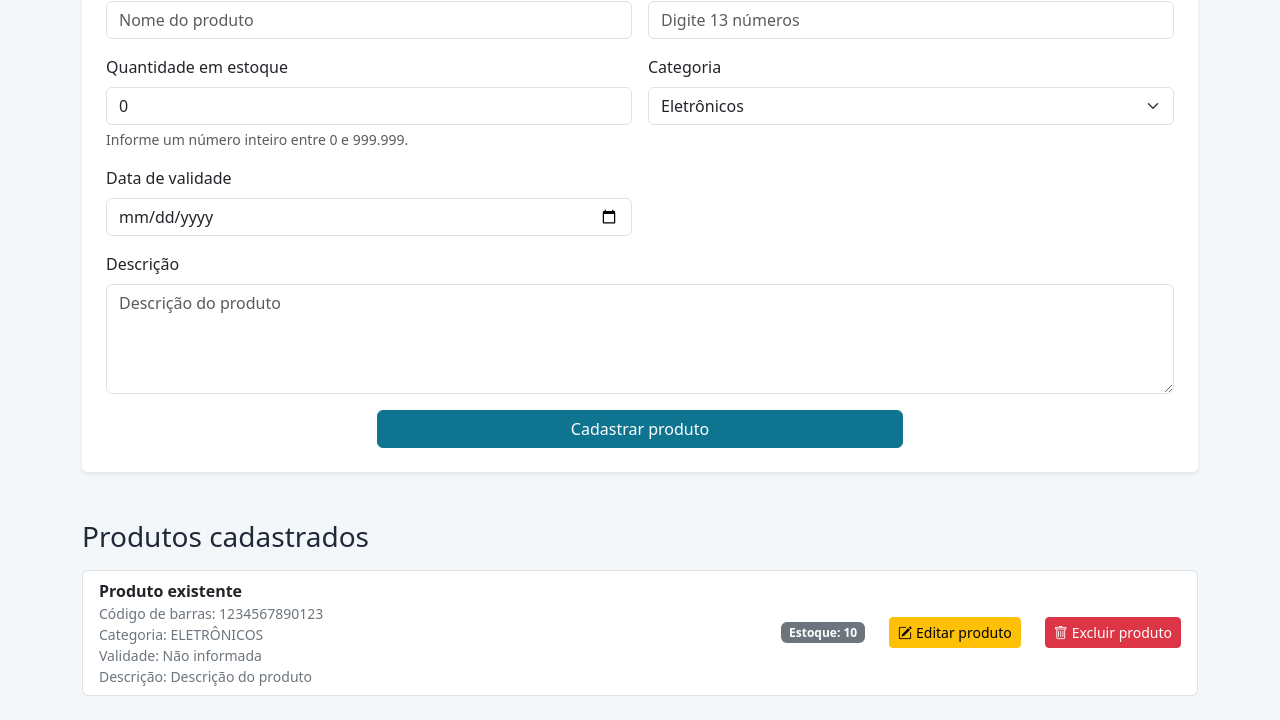
ProductsPage › cancela a edição e restaura o formulário inicial
The image size is (1280, 720).
(page scrolled)
Expected: the text "Produto existente" is shown, [99,580,242,602]
Step 1. Click the button "Editar produto" → (955,633), box [889,617,1021,648]
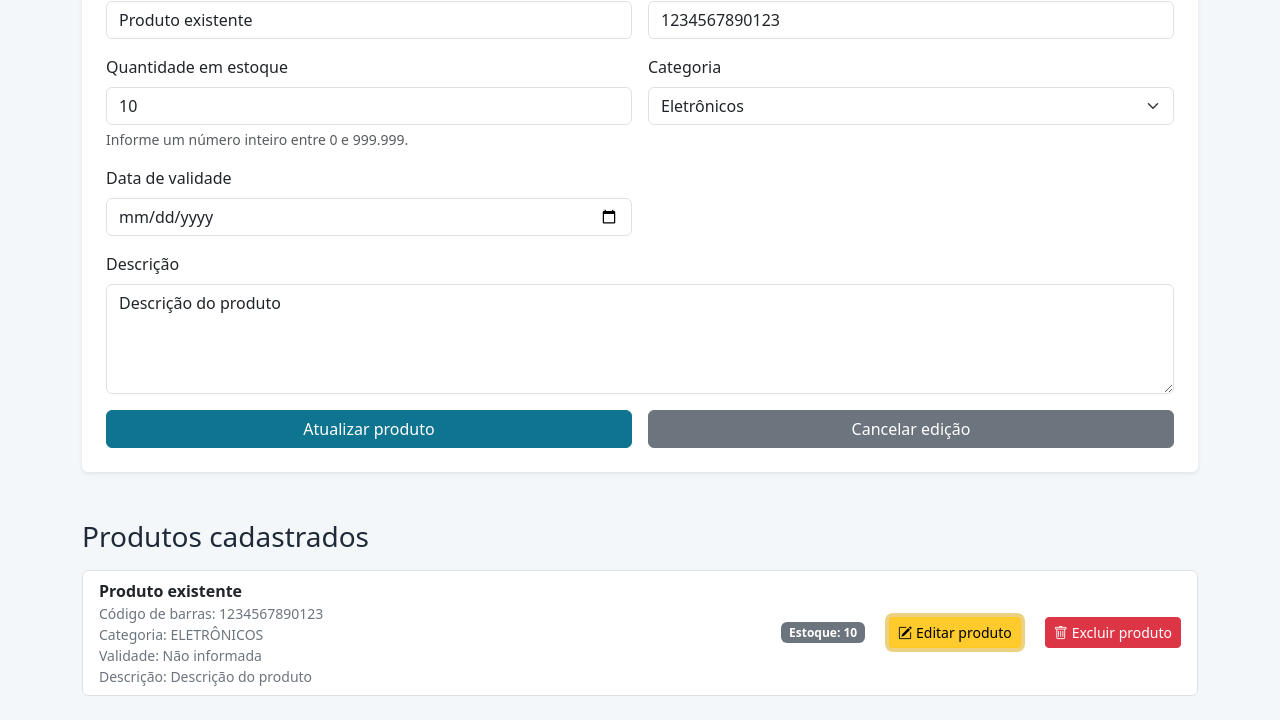
Expected: the field showing "Produto existente" is shown, [106,1,632,39]
Expected: the button "Atualizar produto" is shown, [106,410,632,448]
Step 2. Click the button "Cancelar edição" → (911,429), box [648,410,1174,448]
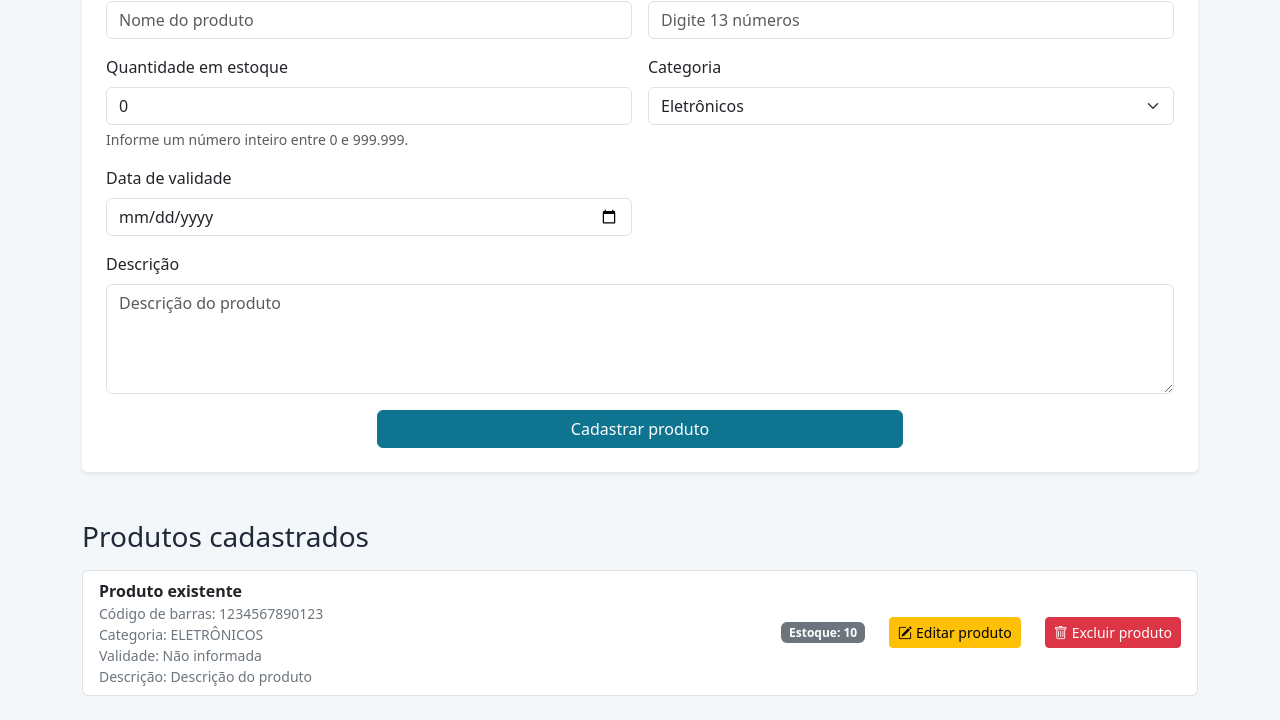
Expected: the field labelled "Nome do produto" is empty, [106,1,632,39]
Expected: the button "Cadastrar produto" is shown, [377,410,903,448]
Expected: the button "Cancelar edição" is gone
